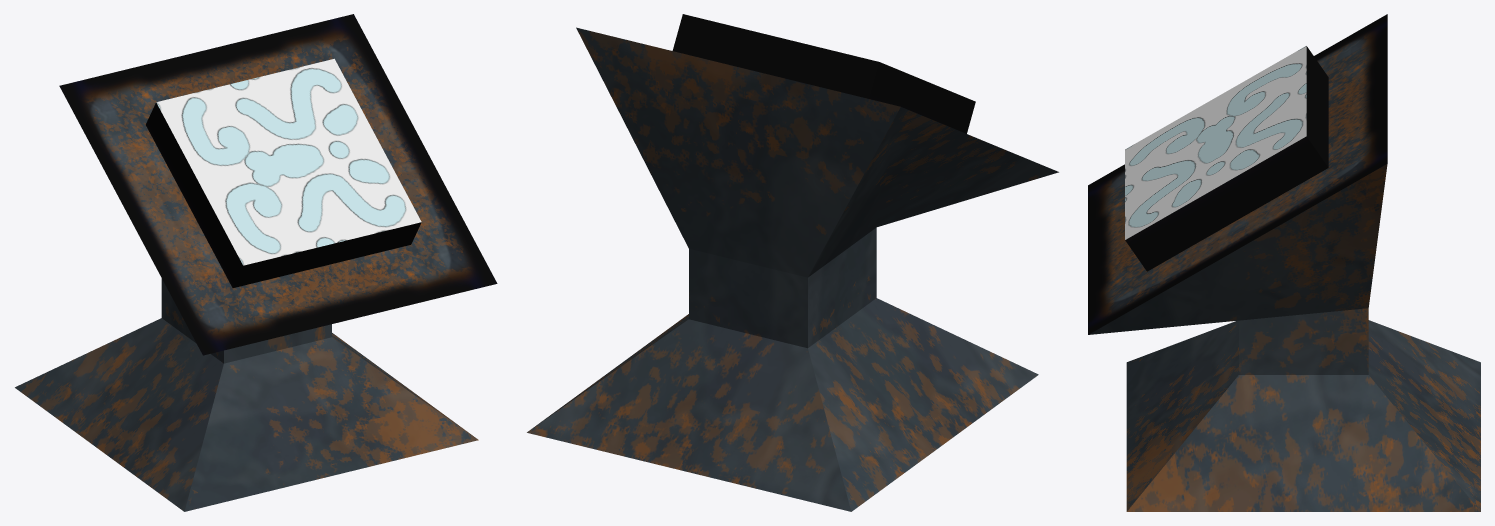
The model's file is ButtonPedestal_Prototype.fbx.
3 renders of one model, left to right at view 1: azimuth 30°, elevation 25°; view 2: azimuth 150°, elevation 25°; view 3: azimuth 270°, elevation 25°, orthographic. The views are drawn at different scales.
Visible parts, largest first — view 1: ButtonPedestal; view 2: ButtonPedestal; view 3: ButtonPedestal.
Part boxes in pixels (x1,y1,x2,y2): ButtonPedestal: (15,14,497,511); ButtonPedestal: (527,14,1058,511); ButtonPedestal: (1088,14,1480,511).
Size of the model in its own units: 60.32 by 65.46 by 66.9.
Materials: 2 (2 with a texture image).
